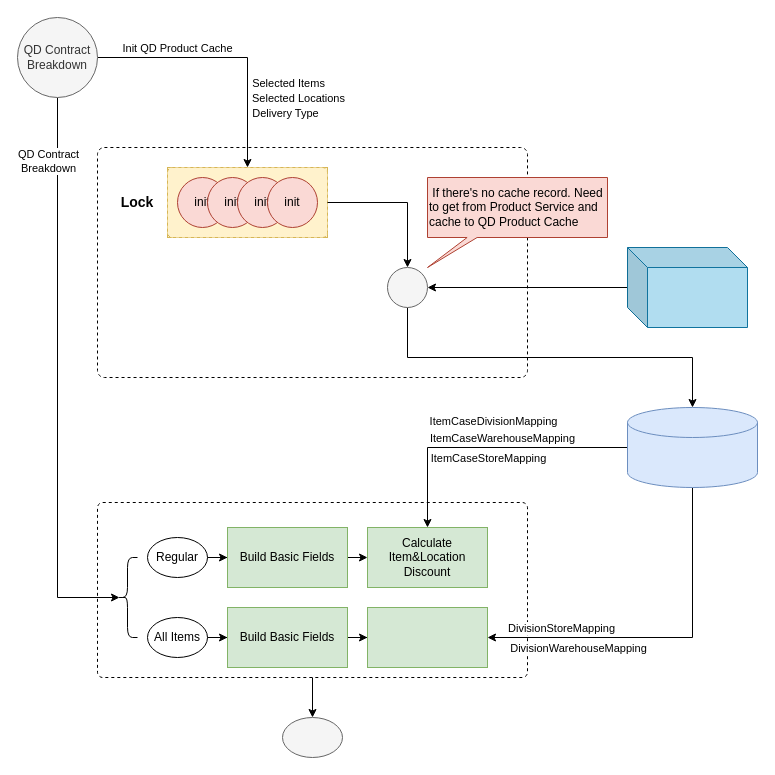
Image size: 775x775. Some labels were removed from this diagram. Here are the shapes that lost their labels. From the top down, the centre of each, then its label:
At [687,287]: "Product Service".
At [692,447]: "QD Product Cache".
At [427,637]: "Calculate Location Discount".
At [312,737]: "Continue".
